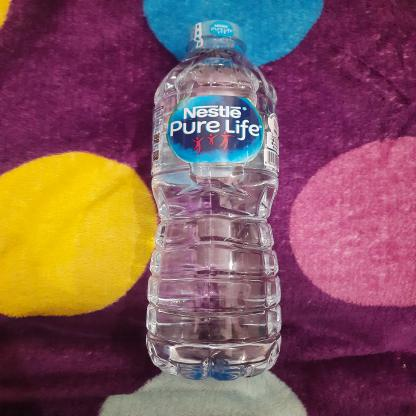bottle: (140, 17, 290, 384)
